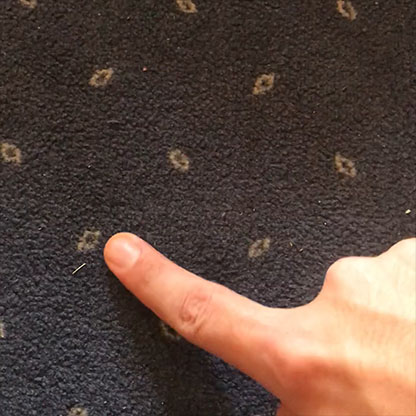fingertip: (92, 223, 150, 282)
